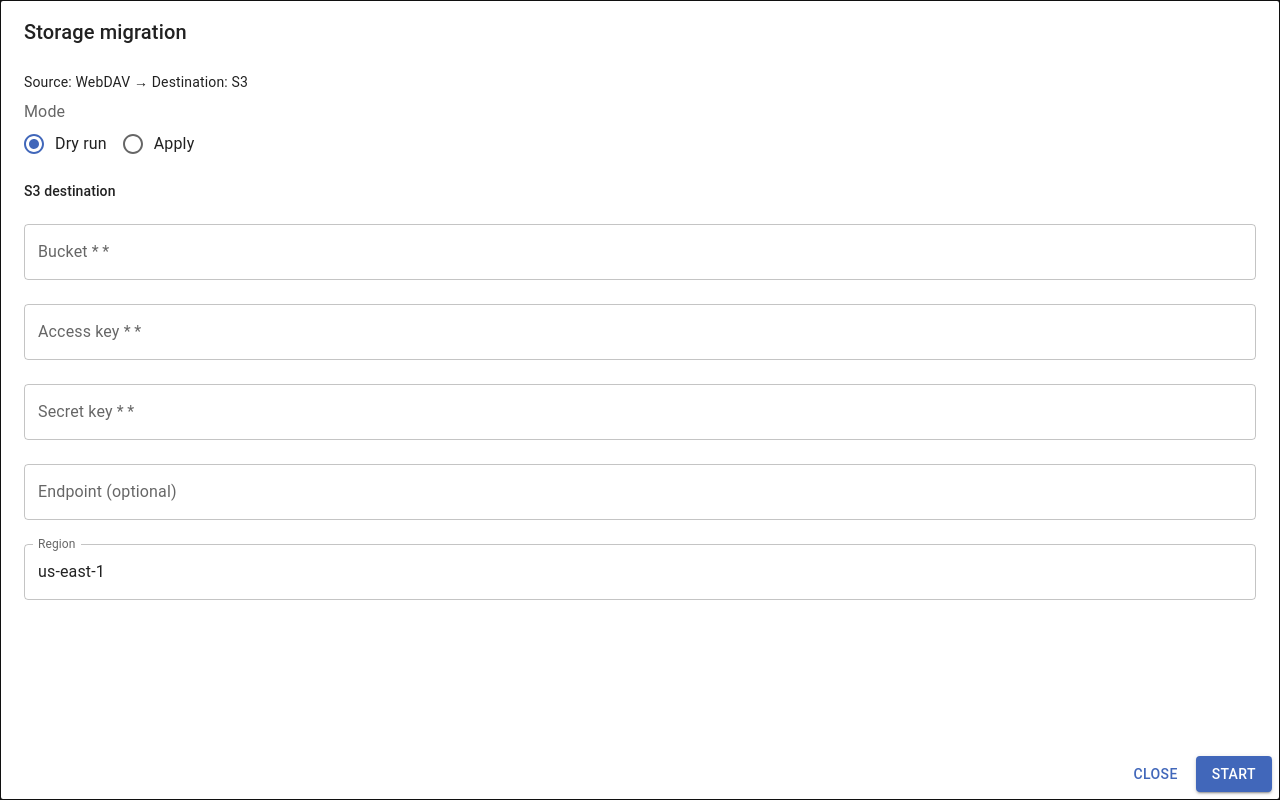
Test: MigrationDialog › shows the auto-resume note only in apply mode
The image size is (1280, 800).
Expected: the text "Source: WebDAV → Destination: S3" is shown, [24,74,248,90]
Expected: the text "already migrated files are skipped automatically" is not shown
Click the radio button labelled "Apply" at (158, 144), box [121,132,194,156]
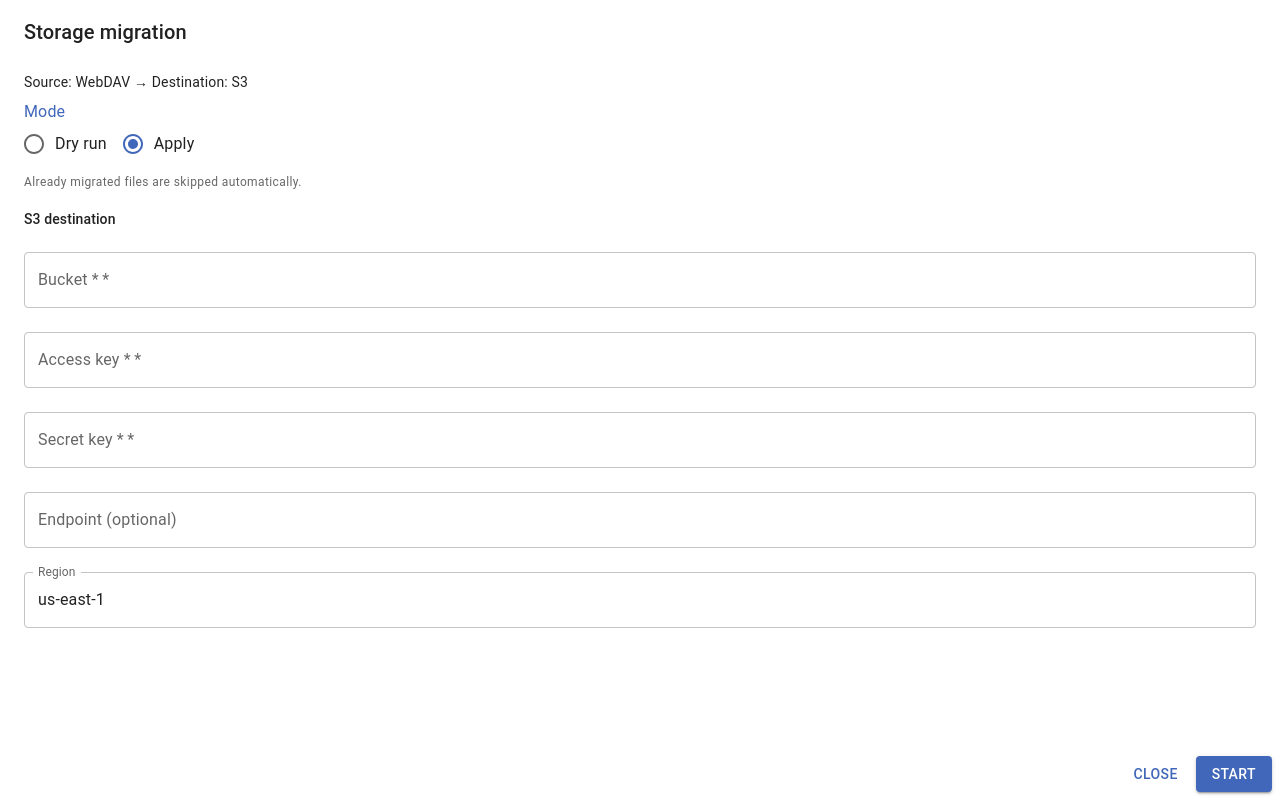
Expected: the text "Already migrated files are skipped automatically." is shown, [24,175,302,189]
